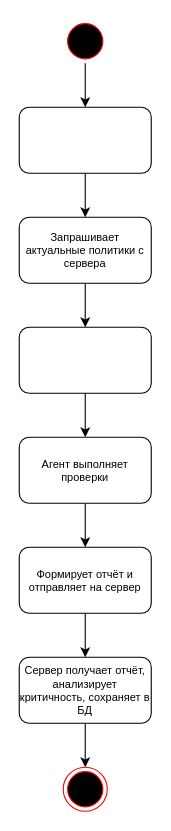
The diagram is 171 pixels wide and 831 high, and some of its shapes have lost their labels. The shapes that lost their labels are listed below. From the top down, each one's box as (x1, y1, x2, y2) in pixels, then its label:
(18, 106, 151, 173): Агент получает расписание
(18, 326, 151, 393): Сервер возвращает политики
